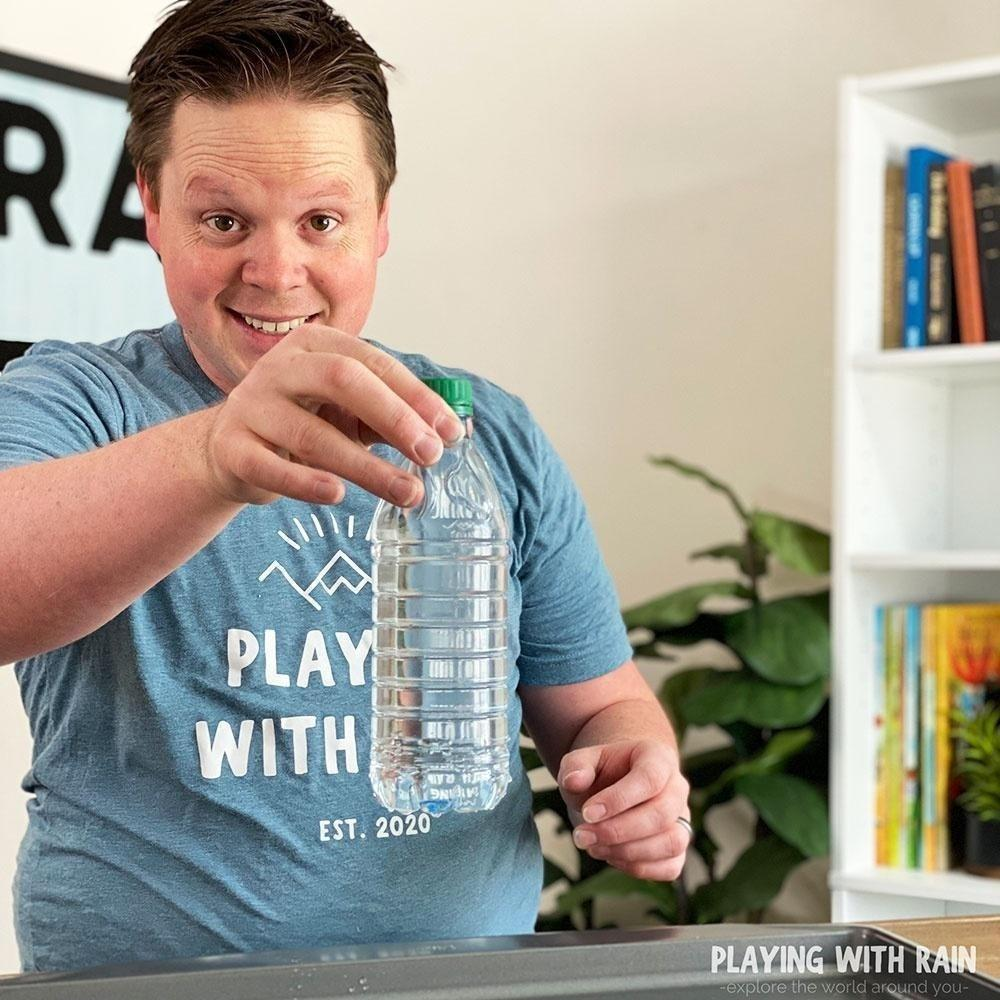bottle-plastic: (364, 374, 523, 820)
